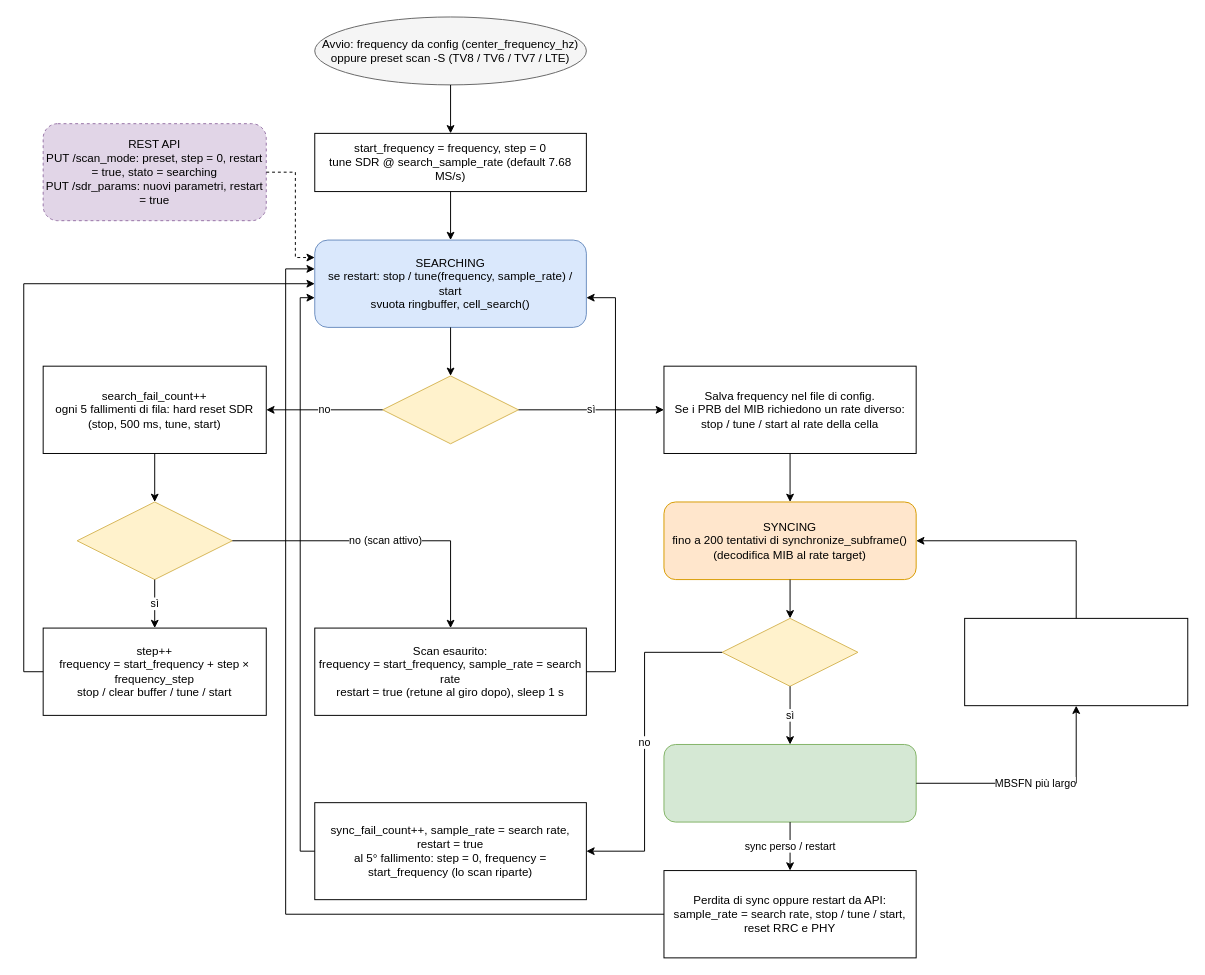
The diagram is 1205 pixels wide and 975 high, and some of its shapes have lost their labels. The shapes that lost their labels are listed below. From the top down, each one's box as (x1, y1, x2, y2) in pixels, then its label:
(382, 375, 518, 444): Cella trovata?
(76, 501, 232, 580): step < number_of_step?
(721, 617, 858, 686): Sync OK?
(964, 617, 1188, 706): PRB extension: area MBSFN più larga del CAS → tune al rate MBSFN
(663, 744, 916, 822): PROCESSING decodifica CAS + MBSFN a ogni TTI
